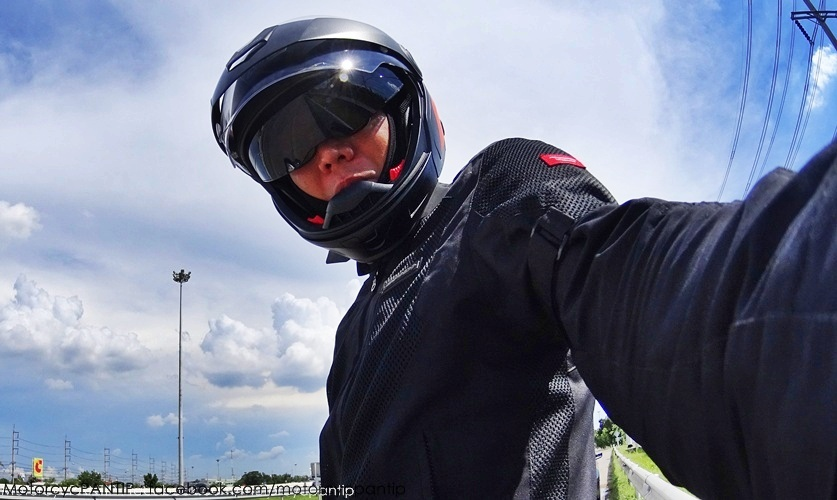helmet: (204, 12, 459, 272)
